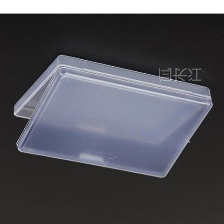plastic_box: (6, 49, 218, 184)
